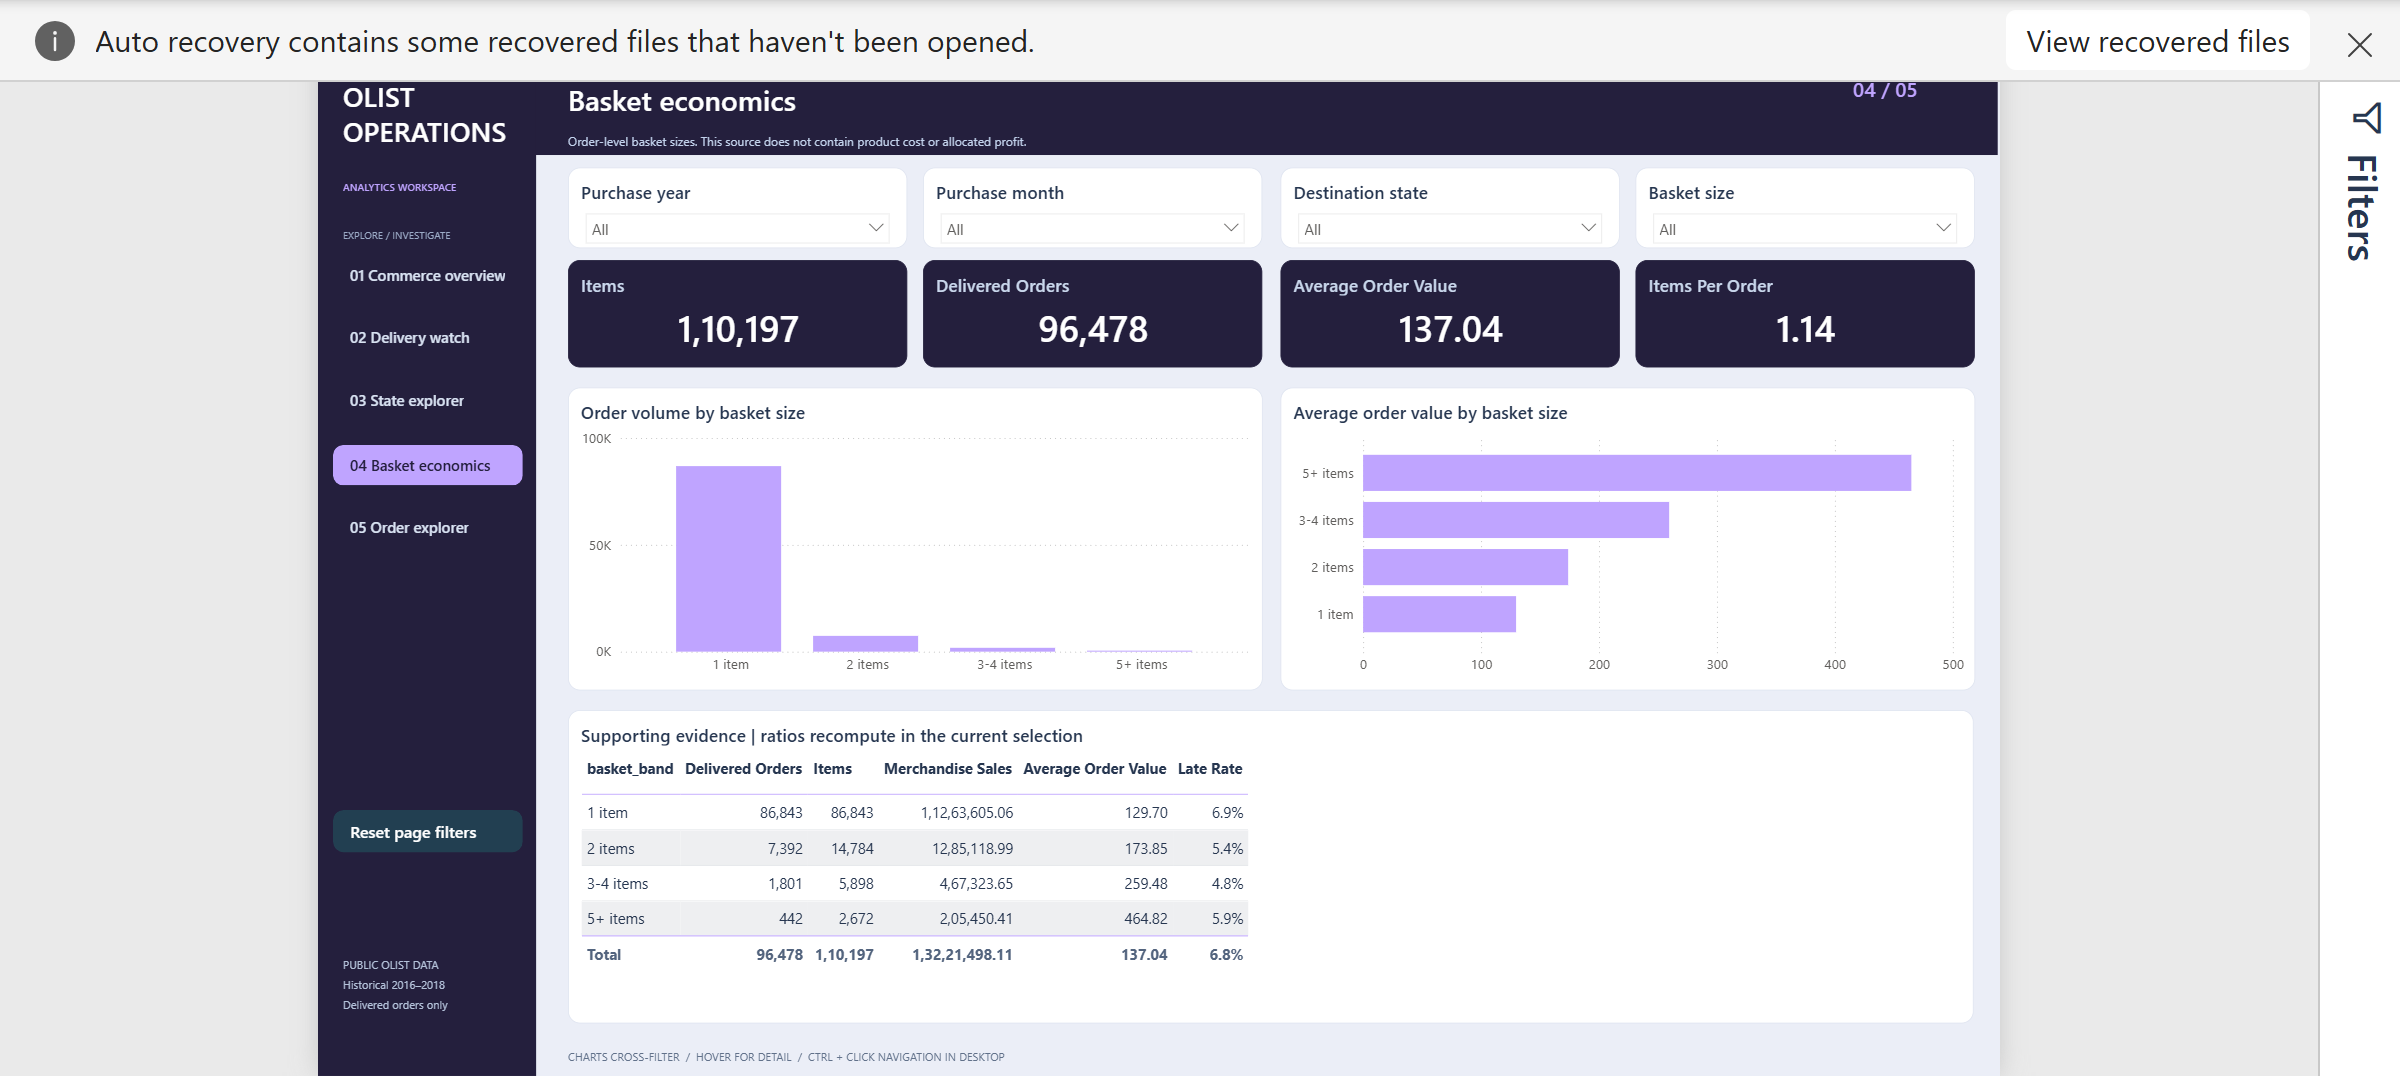

The dashboard page shown, as its layout file describes it:
{"tool":"powerbi","page":{"name":"Basket economics","canvas":[1664,1016],"ordinal":3},"visuals":[{"type":"textbox","box":[0,0,216,1016],"z":0},{"type":"textbox","box":[216,0,1448,104],"z":1},{"type":"slicer","title":"Purchase year","fields":{"Values":["Orders.purchase_year"]},"box":[248,116,336,80],"z":10},{"type":"slicer","title":"Purchase month","fields":{"Values":["Orders.purchase_month"]},"box":[600,116,336,80],"z":10},{"type":"slicer","title":"Destination state","fields":{"Values":["Orders.customer_state"]},"box":[952,116,336,80],"z":10},{"type":"slicer","title":"Basket size","fields":{"Values":["Orders.basket_band"]},"box":[1304,116,336,80],"z":10},{"type":"card","title":"Items","fields":{"Values":["Orders.Items"]},"box":[248,208,336,106],"z":10},{"type":"card","title":"Delivered Orders","fields":{"Values":["Orders.Delivered Orders"]},"box":[600,208,336,106],"z":10},{"type":"card","title":"Average Order Value","fields":{"Values":["Orders.Average Order Value"]},"box":[952,208,336,106],"z":10},{"type":"card","title":"Items Per Order","fields":{"Values":["Orders.Items Per Order"]},"box":[1304,208,336,106],"z":10},{"type":"clusteredColumnChart","title":"Order volume by basket size","fields":{"Category":["Orders.basket_band"],"Y":["Orders.Delivered Orders"]},"box":[248,334,688,300],"z":10},{"type":"barChart","title":"Average order value by basket size","fields":{"Category":["Orders.basket_band"],"Y":["Orders.Average Order Value"]},"box":[952,334,688,300],"z":10},{"type":"tableEx","title":"Supporting evidence | ratios recompute in the current selection","fields":{"Values":["Orders.basket_band","Orders.Delivered Orders","Orders.Items","Orders.Merchandise Sales","Orders.Average Order Value","Orders.Late Rate"]},"box":[248,654,1392,310],"z":10},{"type":"textbox","box":[1520,25,120,40],"z":10000},{"type":"textbox","box":[24,26,174,95],"z":10000},{"type":"textbox","box":[248,30,1100,40],"z":10000},{"type":"textbox","box":[248,78,1370,25],"z":10000},{"type":"textbox","box":[24,123,180,26],"z":10000},{"type":"textbox","box":[24,170,180,25],"z":10000},{"type":"textbox","box":[24,894,176,90],"z":10000},{"type":"textbox","box":[248,985,1392,24],"z":10000},{"type":"actionButton","box":[14,204,188,40],"z":10100},{"type":"actionButton","box":[14,266,188,40],"z":10100},{"type":"actionButton","box":[14,328,188,40],"z":10100},{"type":"actionButton","box":[14,390,188,40],"z":10100},{"type":"actionButton","box":[14,452,188,40],"z":10100},{"type":"actionButton","box":[14,752,188,42],"z":10100}]}

Visuals, with their boxes on the page's 1664x1016 design canvas (x1, y1, x2, y2). These are canvas units, not pixel positions in the 2400x1076 screenshot, which may show the page scaled, cropped or inside an application window:
textbox: (0,0,216,1016)
textbox: (216,0,1664,104)
"Purchase year" slicer: (248,116,584,196)
"Purchase month" slicer: (600,116,936,196)
"Destination state" slicer: (952,116,1288,196)
"Basket size" slicer: (1304,116,1640,196)
"Items" card: (248,208,584,314)
"Delivered Orders" card: (600,208,936,314)
"Average Order Value" card: (952,208,1288,314)
"Items Per Order" card: (1304,208,1640,314)
"Order volume by basket size" clusteredColumnChart: (248,334,936,634)
"Average order value by basket size" barChart: (952,334,1640,634)
"Supporting evidence | ratios recompute in the current selection" tableEx: (248,654,1640,964)
textbox: (1520,25,1640,65)
textbox: (24,26,198,121)
textbox: (248,30,1348,70)
textbox: (248,78,1618,103)
textbox: (24,123,204,149)
textbox: (24,170,204,195)
textbox: (24,894,200,984)
textbox: (248,985,1640,1009)
actionButton: (14,204,202,244)
actionButton: (14,266,202,306)
actionButton: (14,328,202,368)
actionButton: (14,390,202,430)
actionButton: (14,452,202,492)
actionButton: (14,752,202,794)
